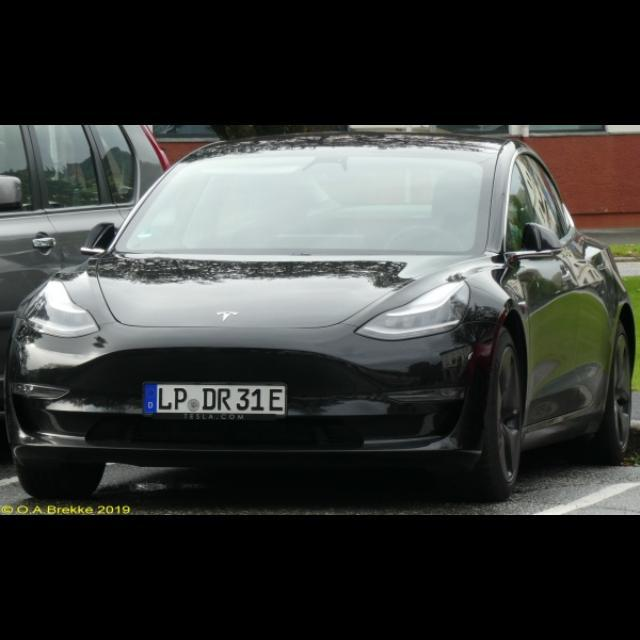license-plates: (144, 386, 287, 416)
